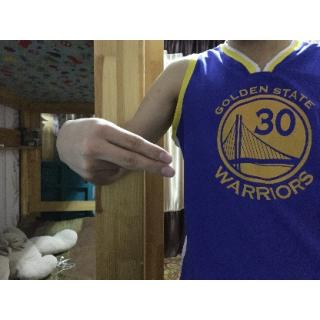AYN: (53, 112, 181, 187)
